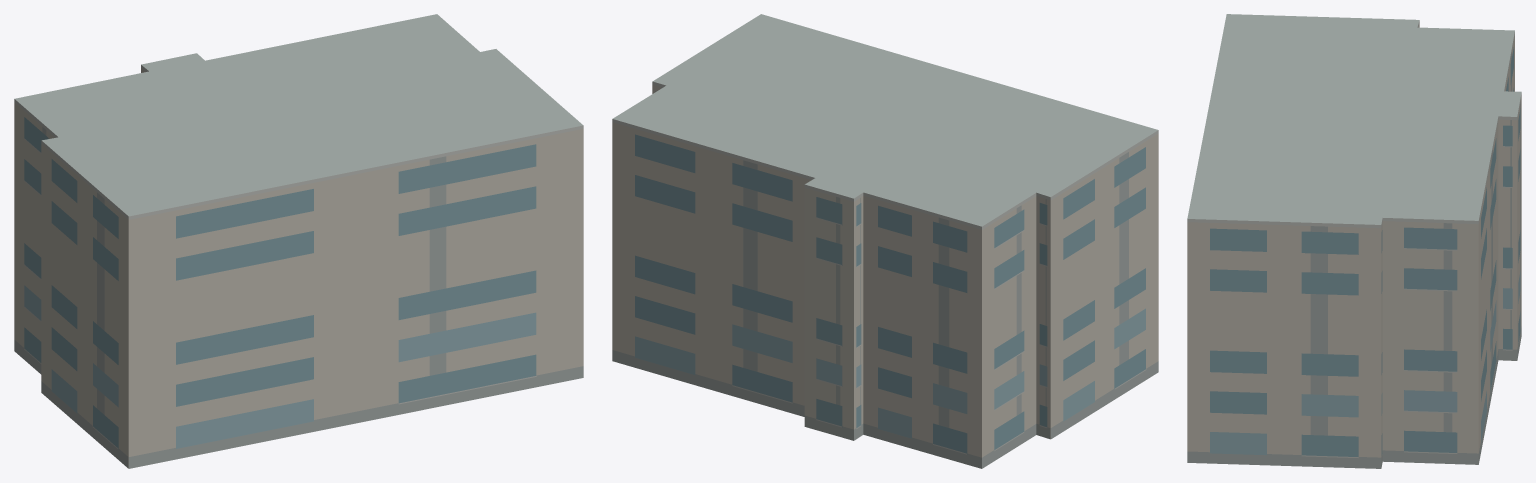
The model's file is survey-upis-32829751.glb.
3 renders of one model, left to right at view 1: azimuth 30°, elevation 25°; view 2: azimuth 150°, elevation 25°; view 3: azimuth 270°, elevation 25°, orthographic. The views are drawn at different scales.
Parts seen in each view (by area): view 1: survey-upis-32829751.tmp; view 2: survey-upis-32829751.tmp; view 3: survey-upis-32829751.tmp.
Boxes of the visible parts, bbox=[...] form: survey-upis-32829751.tmp: bbox=[14, 14, 583, 468]; survey-upis-32829751.tmp: bbox=[612, 14, 1158, 468]; survey-upis-32829751.tmp: bbox=[1187, 14, 1521, 468].
Bounding box in the file's own units: 33.79 × 18.21 × 22.63.
